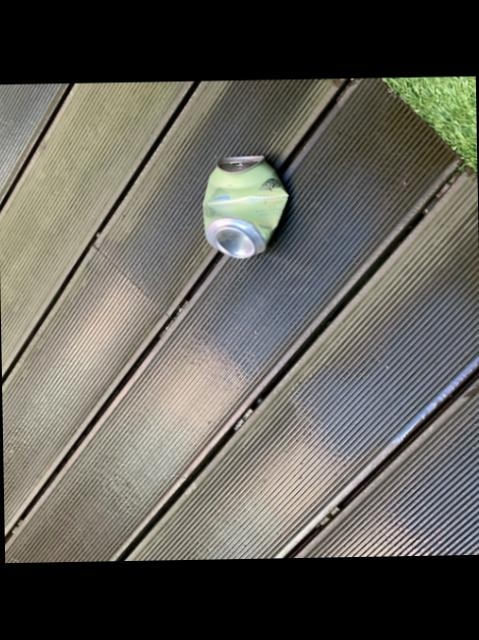metal: (200, 155, 285, 256)
